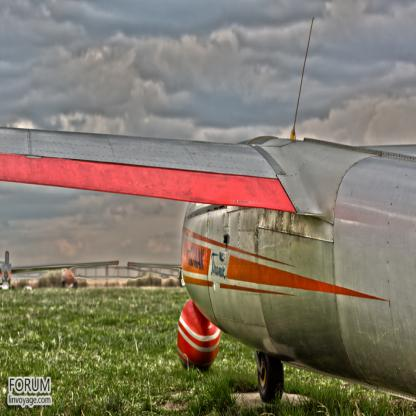Ball: (176, 302, 223, 372)
